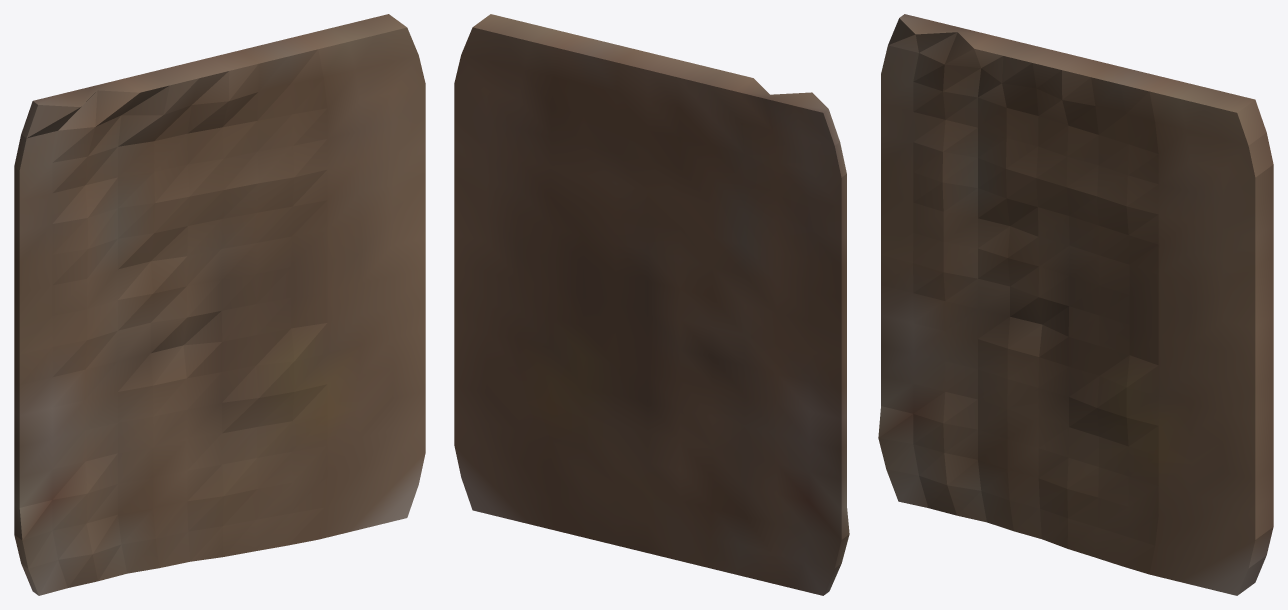
The model's file is aholo-dawn-shutter.glb.
3 views of the same model, side by side, from view 1: azimuth 30°, elevation 25°; view 2: azimuth 150°, elevation 25°; view 3: azimuth 330°, elevation 25° (orthographic).
Bounding box in the file's own units: 1.3 × 1.55 × 0.1058.
